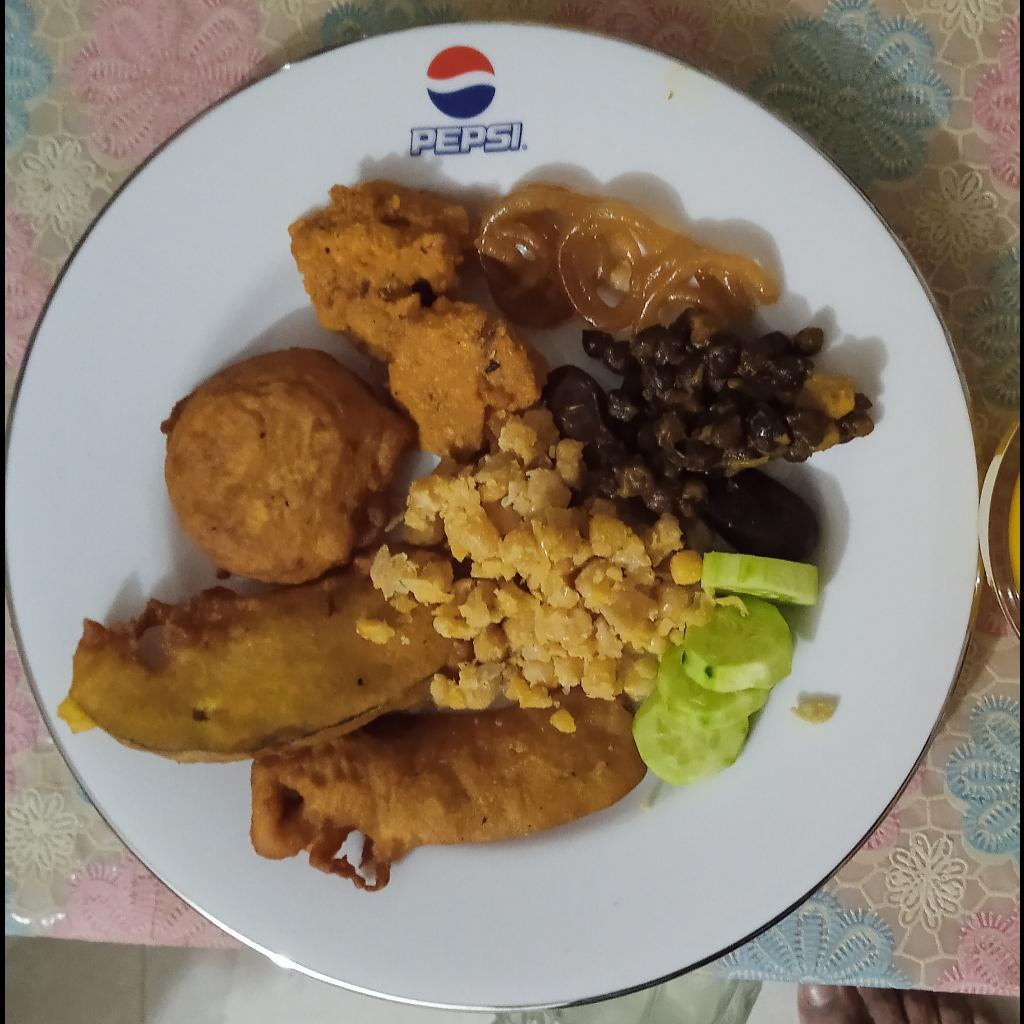beguni: (60, 568, 647, 891)
chola: (582, 315, 874, 521)
chop-alu: (162, 345, 414, 584)
cucumber: (632, 553, 818, 785)
dates: (698, 467, 820, 559), (543, 364, 616, 457)
jilapi: (477, 180, 779, 342)
piyaju: (286, 180, 551, 461)
